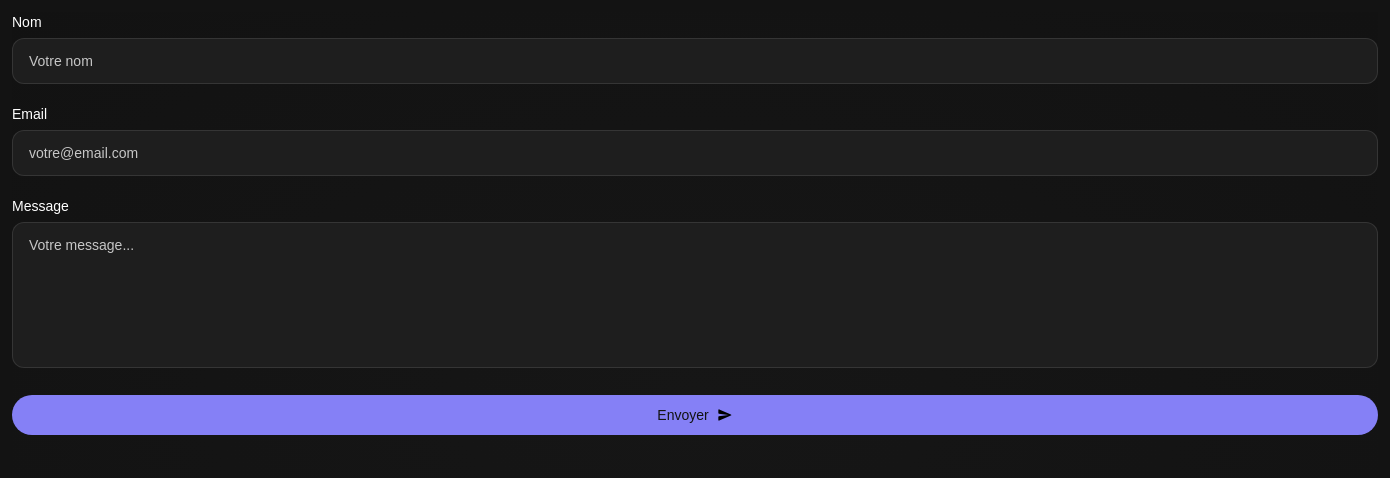
it: ContactForm in fr › reports a message shorter than ten characters in the current language
Step 1. Type "Alex Martin" into the field labelled "Nom" → coordinates (695, 61), box x1=12 y1=38 x2=1378 y2=84
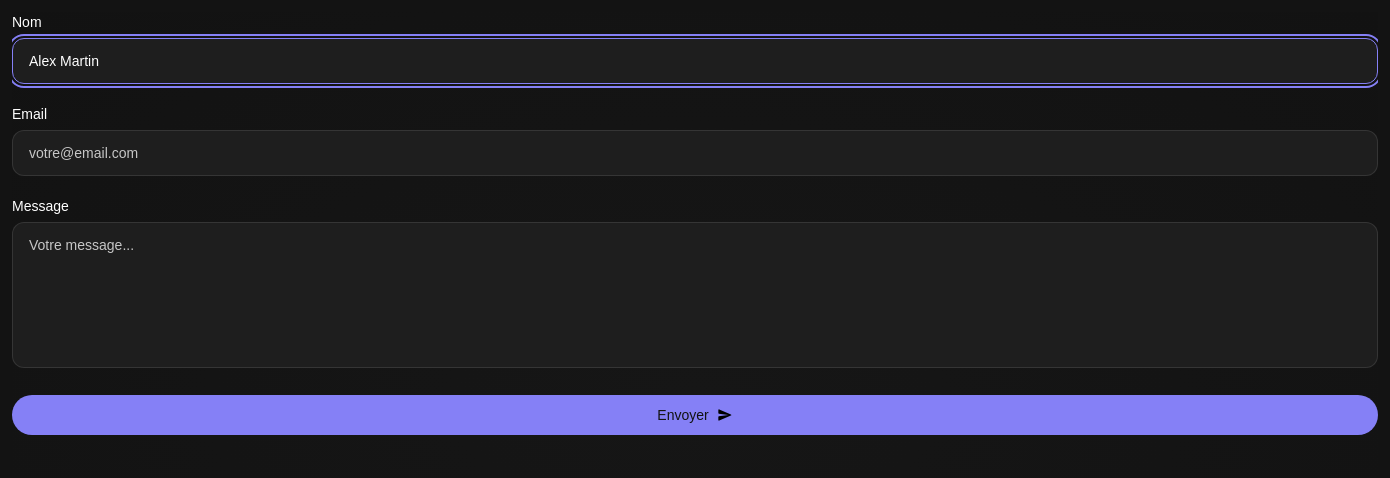
Step 2. Type "alex@example.com" into the field labelled "Email" → coordinates (695, 153), box x1=12 y1=130 x2=1378 y2=176
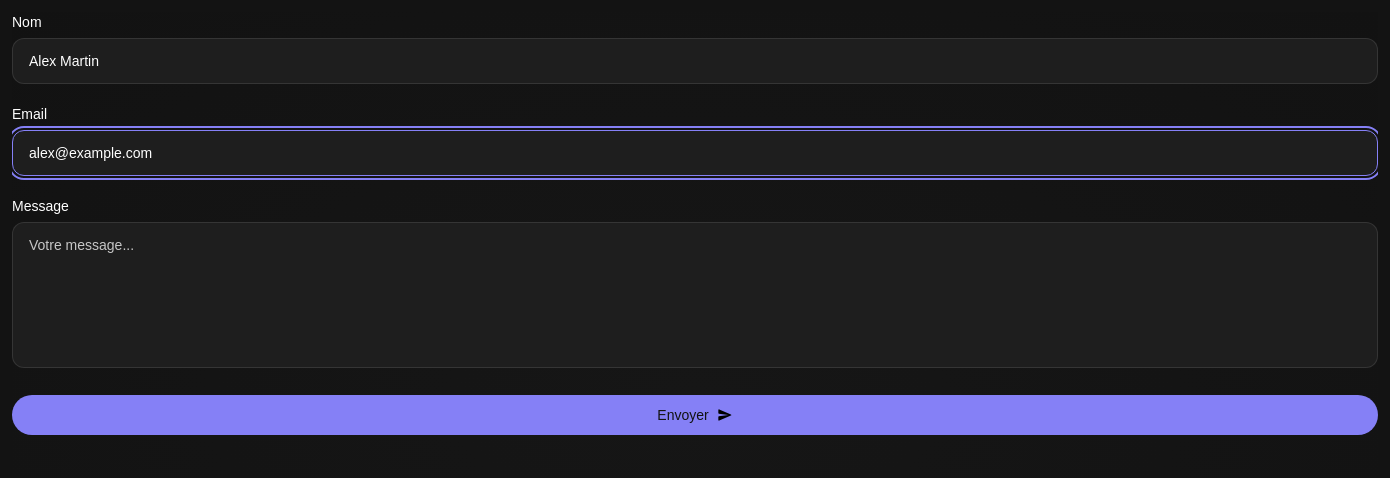
Step 3. Type "court" into the text box labelled "Message" → coordinates (695, 295), box x1=12 y1=222 x2=1378 y2=368
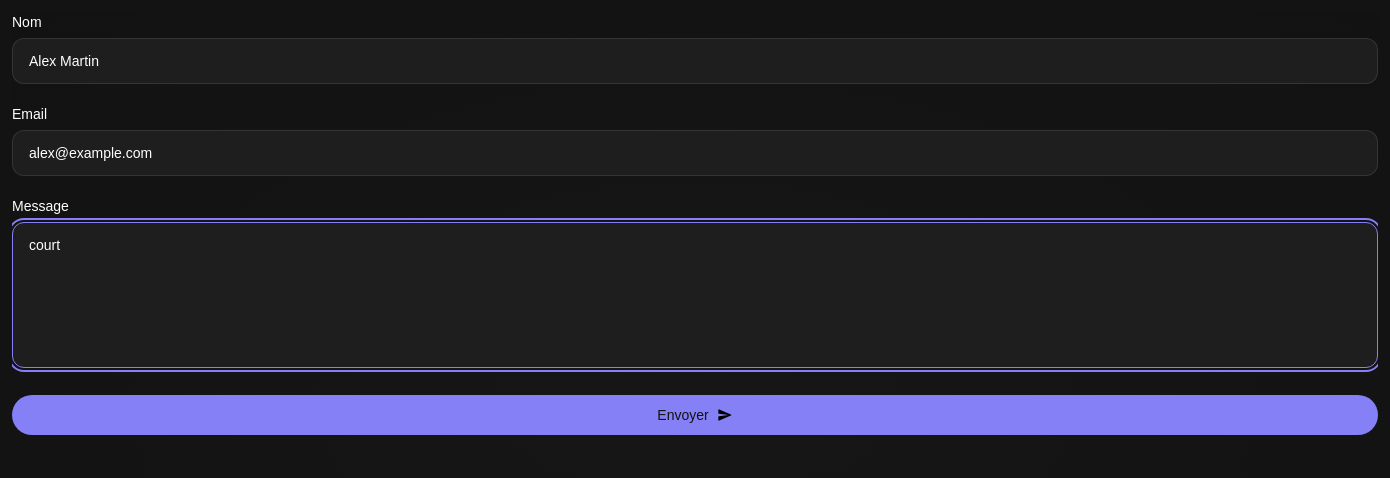
Step 4. Click the button "Envoyer" → coordinates (695, 415), box x1=12 y1=395 x2=1378 y2=435
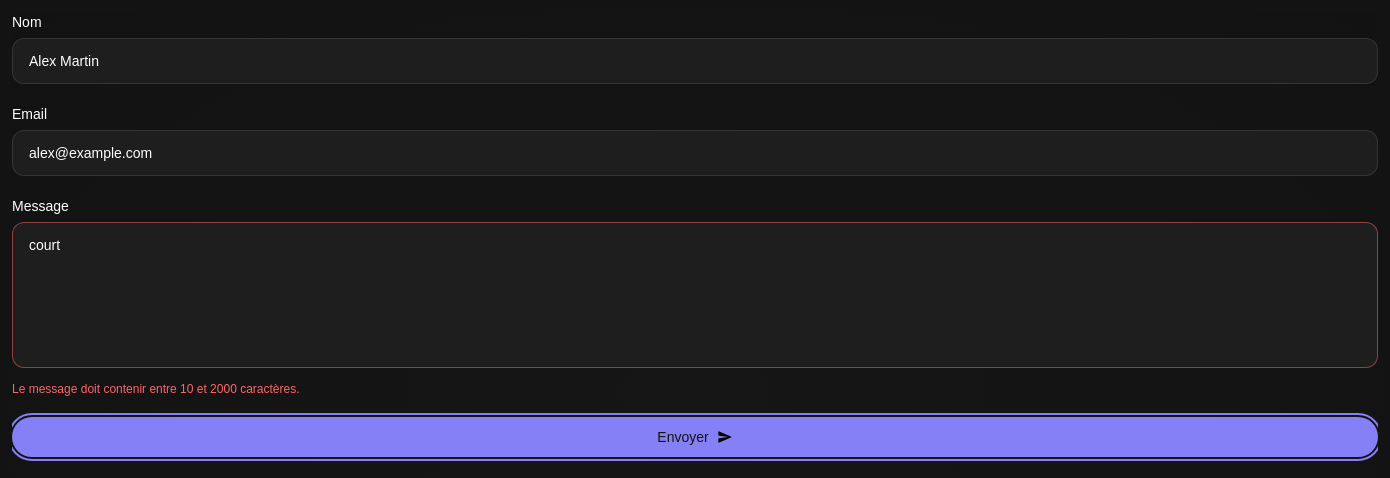
Check: the text "Le message doit contenir entre 10 et 2000 caractères." is shown, box x1=12 y1=382 x2=300 y2=396
